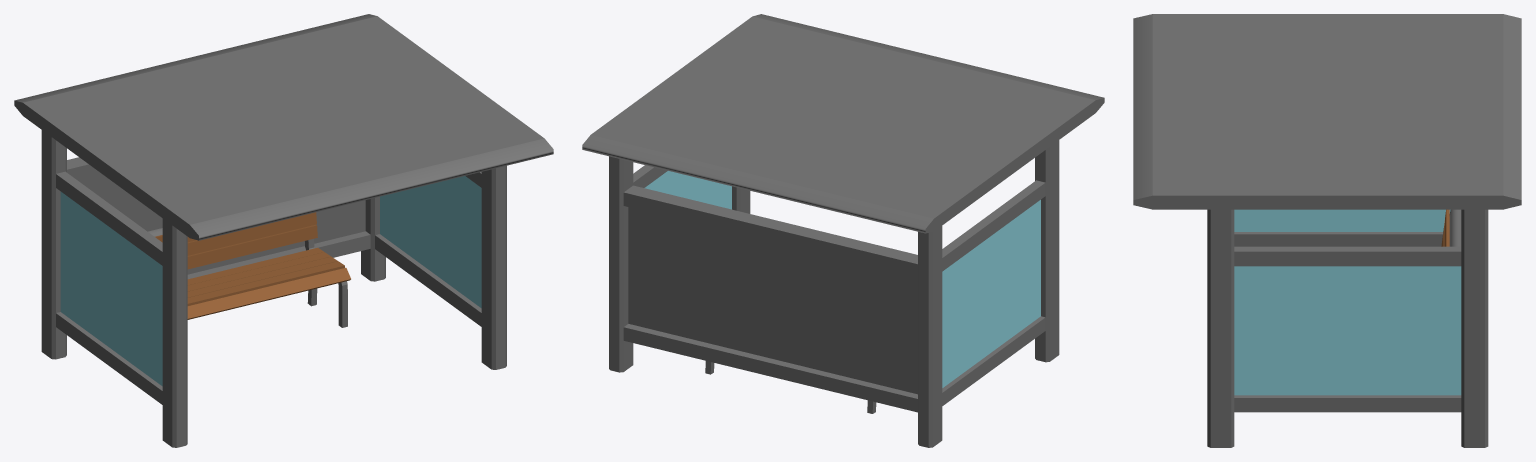
Rendered from Bus_Station.fbx.
3 renders of one model, left to right at view 1: azimuth 30°, elevation 25°; view 2: azimuth 150°, elevation 25°; view 3: azimuth 270°, elevation 25°, orthographic. The views are drawn at different scales.
Parts seen in each view (by area): view 1: Bus_Station, Cube.006, Cube.009, Cube.008, Cube.001, Cube.003, Cube.004, Cube.005, Cube.002; view 2: Bus_Station; view 3: Bus_Station, Cube.002.
Part boxes in pixels (x1,y1,x2,y2): Bus_Station: [14, 14, 553, 447]; Cube.006: [187, 267, 350, 319]; Cube.009: [187, 224, 317, 269]; Cube.008: [187, 212, 316, 255]; Cube.001: [187, 261, 344, 305]; Cube.003: [187, 256, 337, 297]; Cube.004: [187, 252, 330, 291]; Cube.005: [187, 247, 323, 285]; Cube.002: [148, 228, 347, 327]; Bus_Station: [582, 14, 1104, 447]; Bus_Station: [1133, 14, 1521, 447]; Cube.002: [1449, 209, 1461, 246].
Size of the model in its own units: 400 by 264 by 361.
